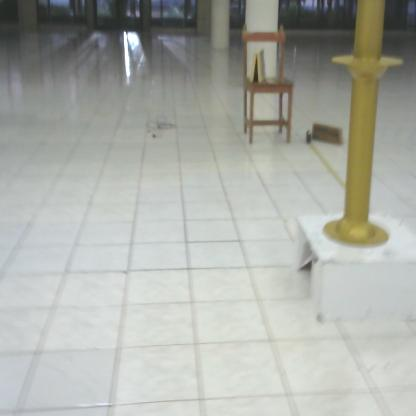pole: (320, 1, 411, 253)
